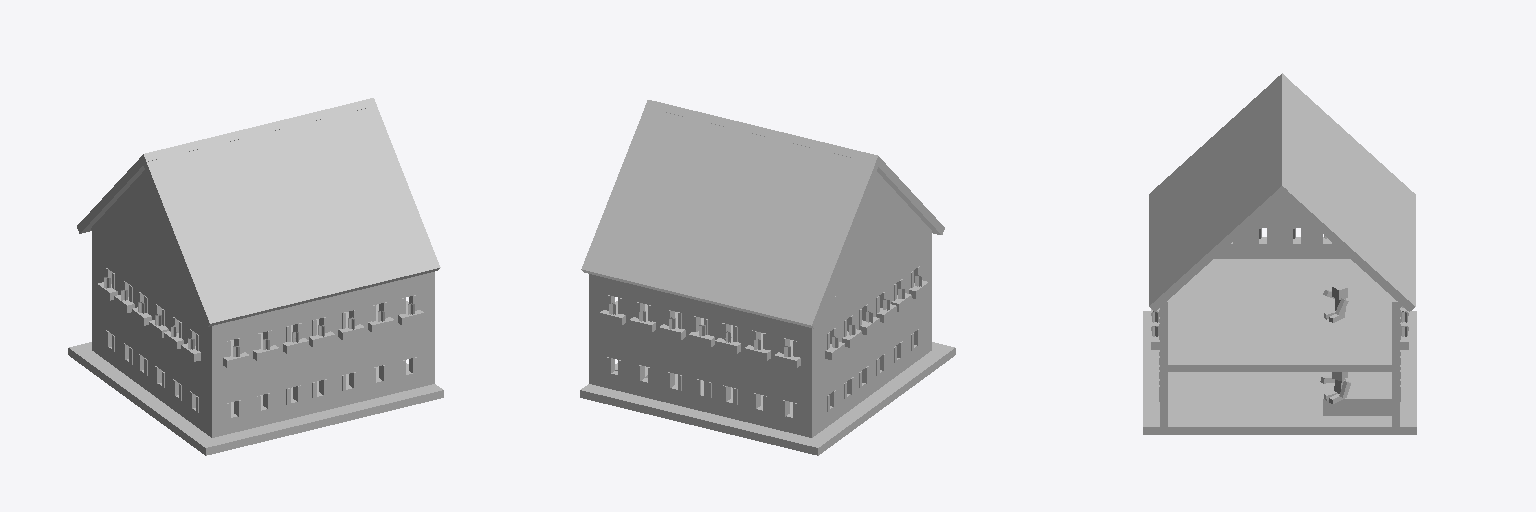
File: 1238_dollhouse2.obj
3 renders of one model, left to right at view 1: azimuth 30°, elevation 25°; view 2: azimuth 150°, elevation 25°; view 3: azimuth 270°, elevation 25°, orthographic.
Parts seen in each view (by area): view 1: roof, 1stFloor, roof2, FrontWall30, FrontWall6, FrontWall3, FrontWall5, FrontWall28, FrontWall, FrontWall27, FrontWall26, SideWall28 (+11 smaller); view 2: roof2, 1stFloor, roof, BackWall6, BackWall30, BackWall27, BackWall28, BackWall5, BackWall3, BackWall, BackWall26, SideWall28 (+11 smaller); view 3: 2ndfloor, roof2, roof, 1stFloor, bed, SideWall, BackWall30, FrontWall6, SideWall26, SideWall3.
Part boxes in pixels (x1,y1,x2,y2): roof: (141, 98, 440, 326); 1stFloor: (68, 342, 443, 455); roof2: (77, 98, 376, 233); FrontWall30: (208, 321, 230, 437); FrontWall6: (409, 272, 434, 388); FrontWall3: (349, 286, 375, 403); FrontWall5: (379, 279, 404, 395); FrontWall28: (234, 314, 259, 431); FrontWall: (319, 293, 345, 410); FrontWall27: (263, 307, 289, 423); FrontWall26: (293, 301, 315, 416); SideWall28: (96, 229, 112, 361); roof2: (581, 101, 880, 328); 1stFloor: (580, 342, 955, 455); roof: (645, 100, 944, 234); BackWall6: (793, 324, 815, 437); BackWall30: (589, 274, 614, 388); BackWall27: (648, 288, 674, 403); BackWall28: (619, 281, 644, 395); BackWall5: (764, 317, 789, 431); BackWall3: (734, 309, 760, 423); BackWall: (704, 302, 730, 416); BackWall26: (678, 296, 700, 409); SideWall28: (816, 302, 828, 434); 2ndfloor: (1168, 259, 1391, 371); roof2: (1276, 74, 1415, 311); roof: (1149, 73, 1287, 311); 1stFloor: (1143, 311, 1416, 434); bed: (1323, 385, 1391, 415); SideWall: (1267, 199, 1292, 258); BackWall30: (1392, 297, 1399, 426); FrontWall6: (1160, 301, 1167, 426); SideWall26: (1301, 214, 1322, 258); SideWall3: (1233, 218, 1258, 258).
Size of the model in its own units: 2 by 2.06 by 2.